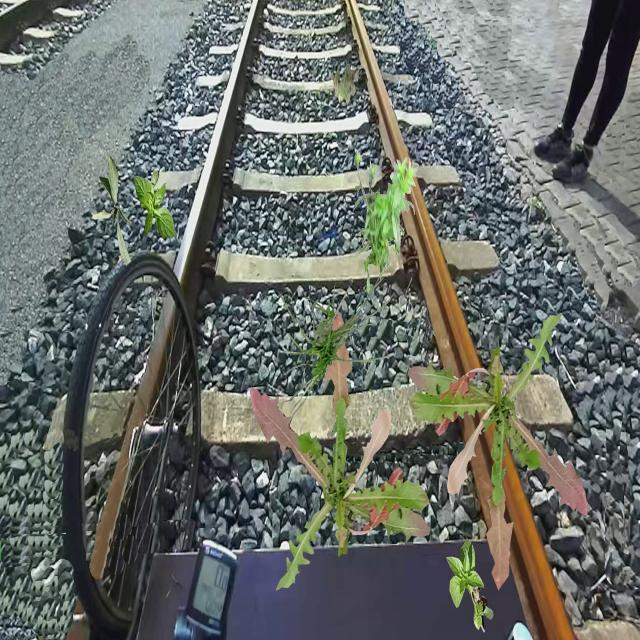Plant: (251, 313, 431, 591), (408, 313, 588, 591), (276, 261, 394, 424), (353, 149, 418, 292), (446, 538, 494, 633), (92, 156, 132, 266), (134, 170, 176, 241), (331, 63, 357, 106), (445, 375, 459, 396)
